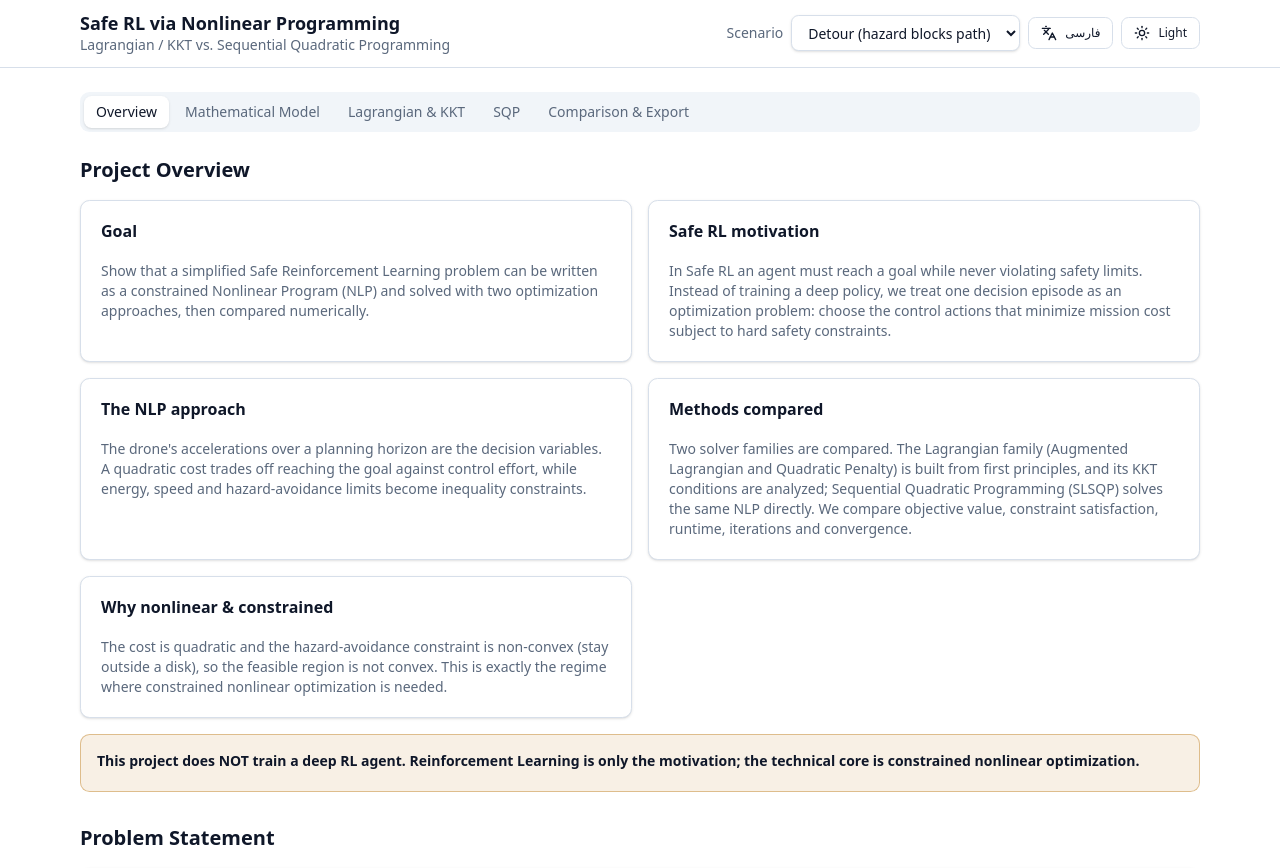
Test case: App shell › toggles language to Persian, flipping text and direction
Click the button with aria-label "Language".
click(1071, 33)  # box [1028,17,1114,49]
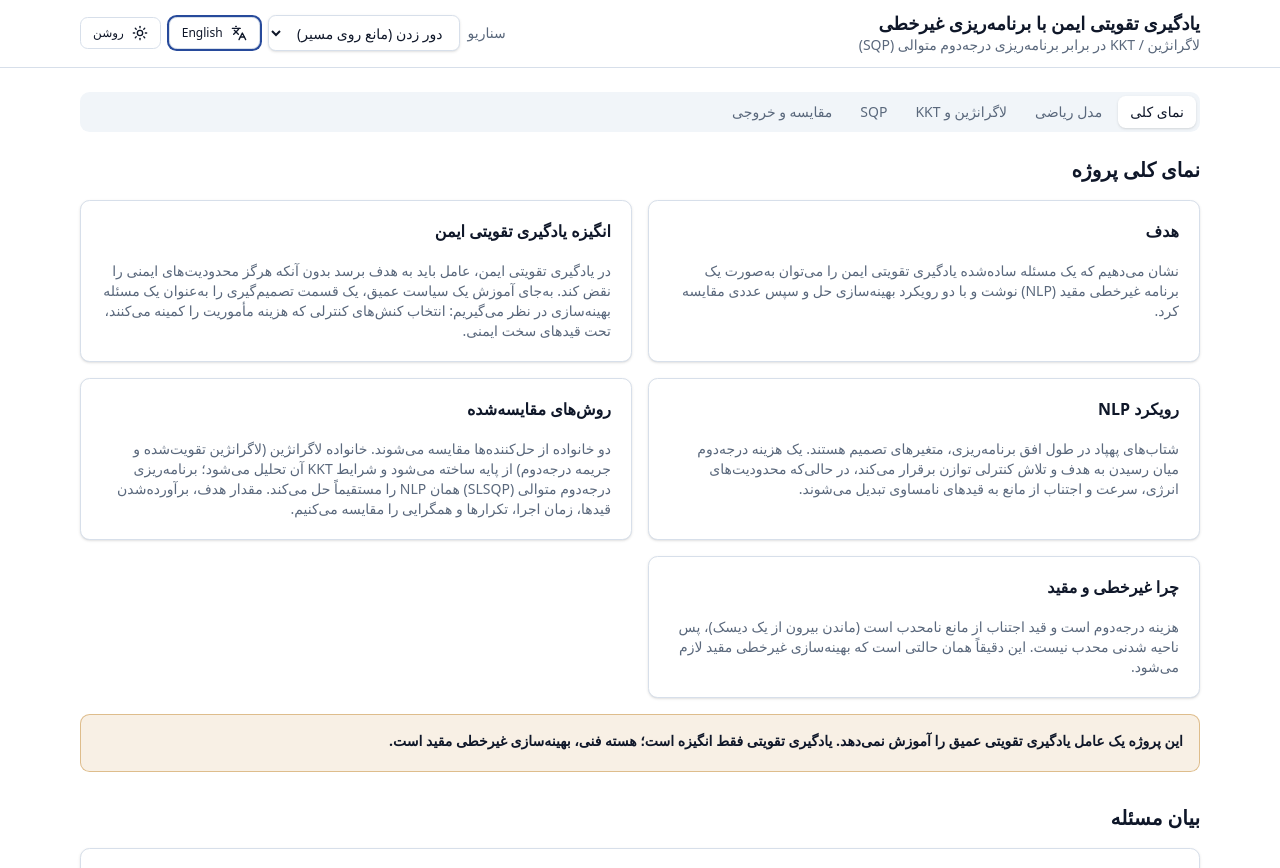
Expected: the heading "یادگیری تقویتی ایمن با برنامه‌ریزی غیرخطی" is shown, [859,12,1200,34]
